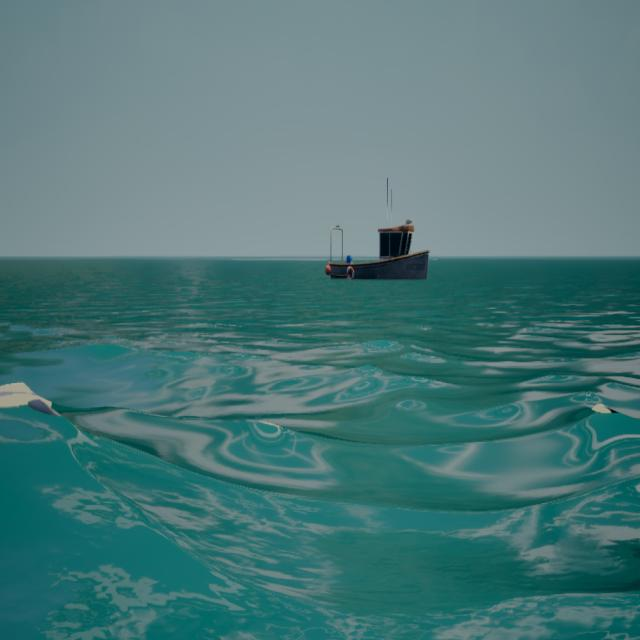ship: (323, 169, 438, 293)
